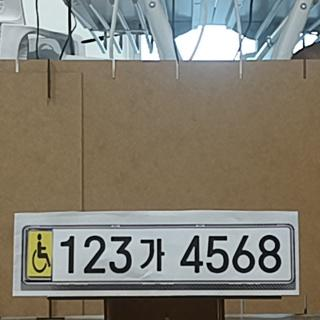disabled: (26, 230, 52, 278)
plate: (21, 224, 295, 289)
